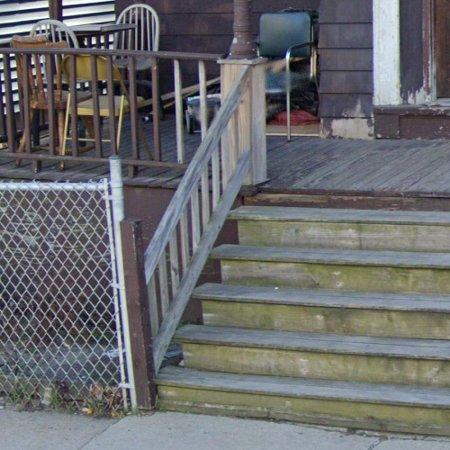stairs: (156, 194, 450, 436)
